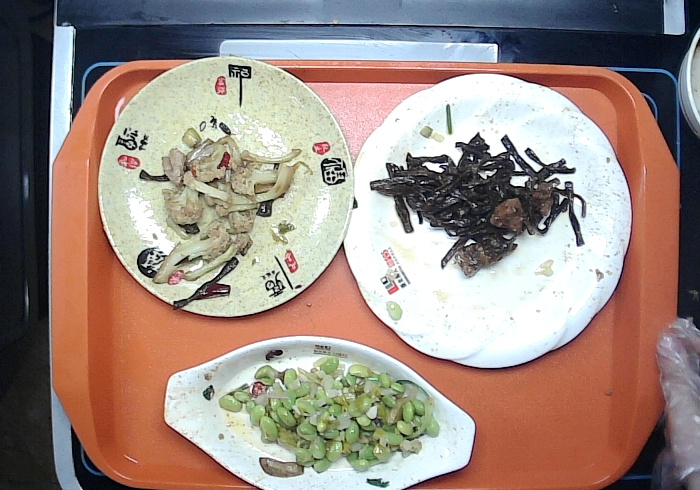NLDX-Bai_Zhe_Yuan_Pan: (341, 71, 635, 370)
NLDX-Fu_Zi_Yuan_Pan: (96, 56, 354, 317)
NLDX-Yu_Pan: (161, 336, 475, 490)
